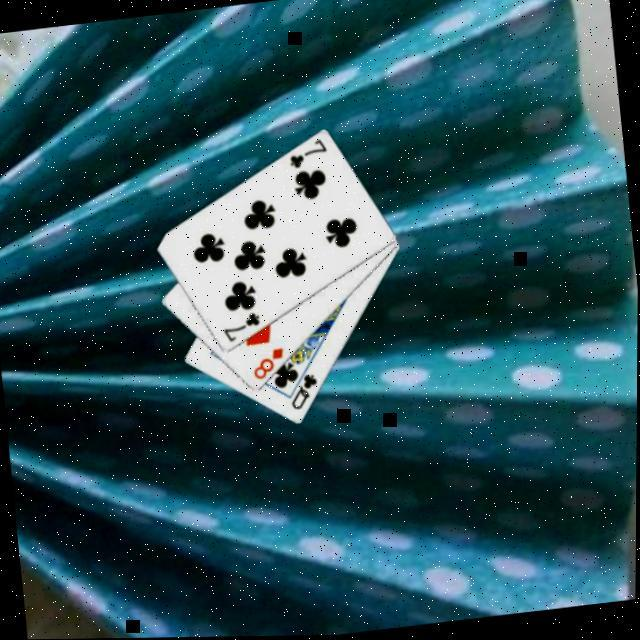7C: (283, 136, 330, 174), (218, 309, 264, 346)
8D: (247, 346, 288, 384)
QC: (284, 372, 322, 414)
